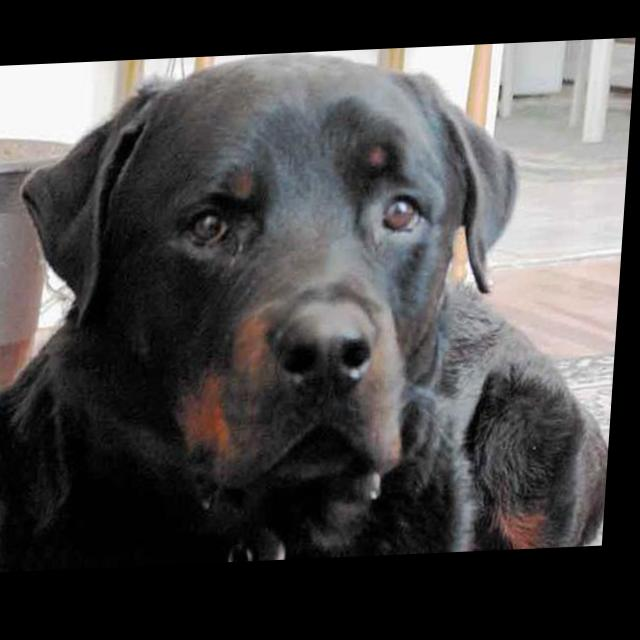rottweiler: (1, 45, 638, 575)
